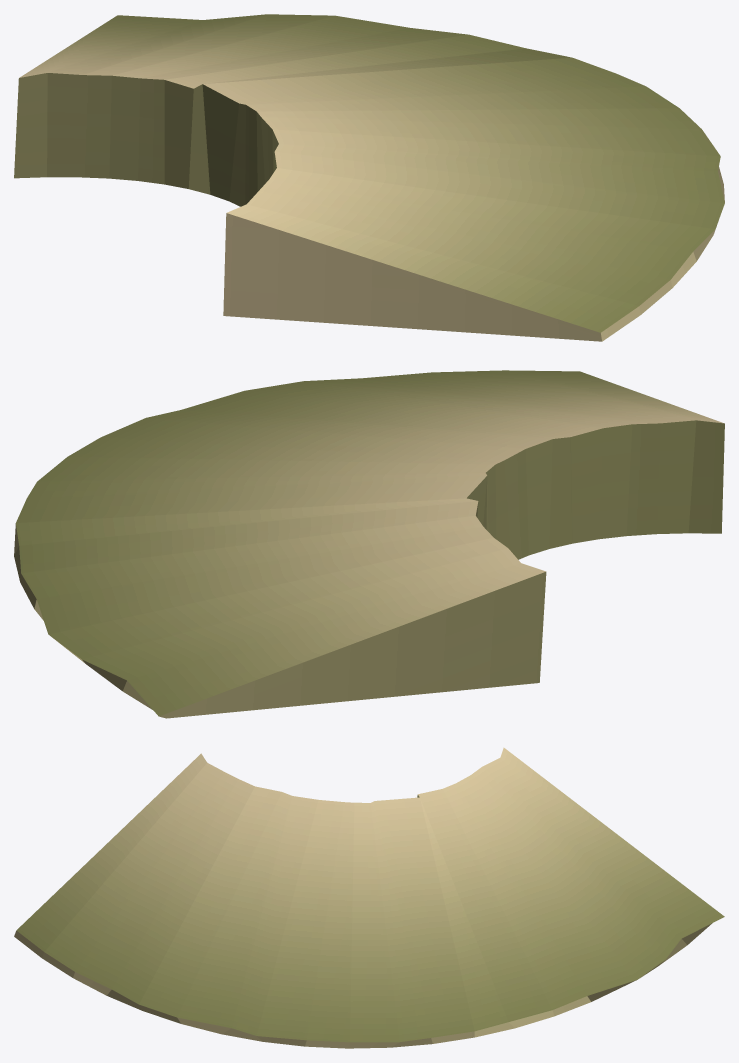
The model's file is beach_2.fbx.
The picture shows the model from 3 angles, top to bottom: view 1: azimuth 30°, elevation 25°; view 2: azimuth 150°, elevation 25°; view 3: azimuth 270°, elevation 25°; orthographic projection. The views are drawn at different scales.
Visible parts, largest first — view 1: Cube; view 2: Cube; view 3: Cube.
Part boxes in pixels (bbox=[...]): Cube: bbox=[14, 14, 724, 341]; Cube: bbox=[14, 370, 724, 718]; Cube: bbox=[14, 747, 724, 1048].
Size of the model in its own units: 9666 by 1727 by 13306.
